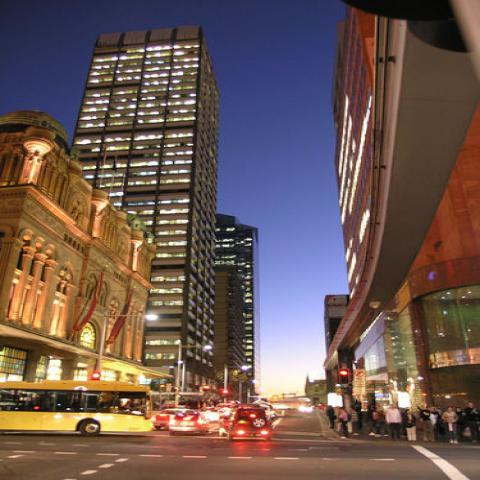bus: (0, 381, 154, 437)
car: (168, 412, 212, 436), (151, 408, 199, 429), (229, 422, 271, 441), (199, 407, 221, 423), (216, 404, 234, 418)
